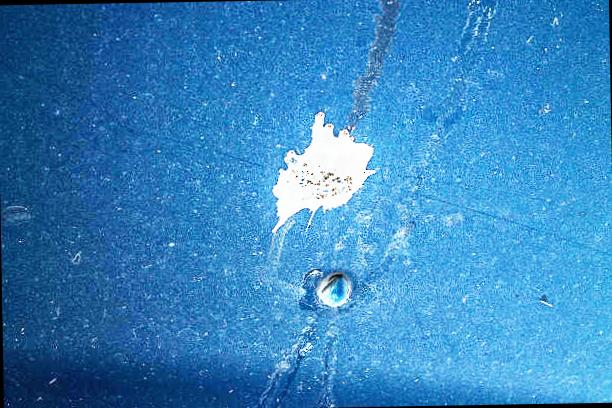Bird Poop: (272, 113, 373, 233)
